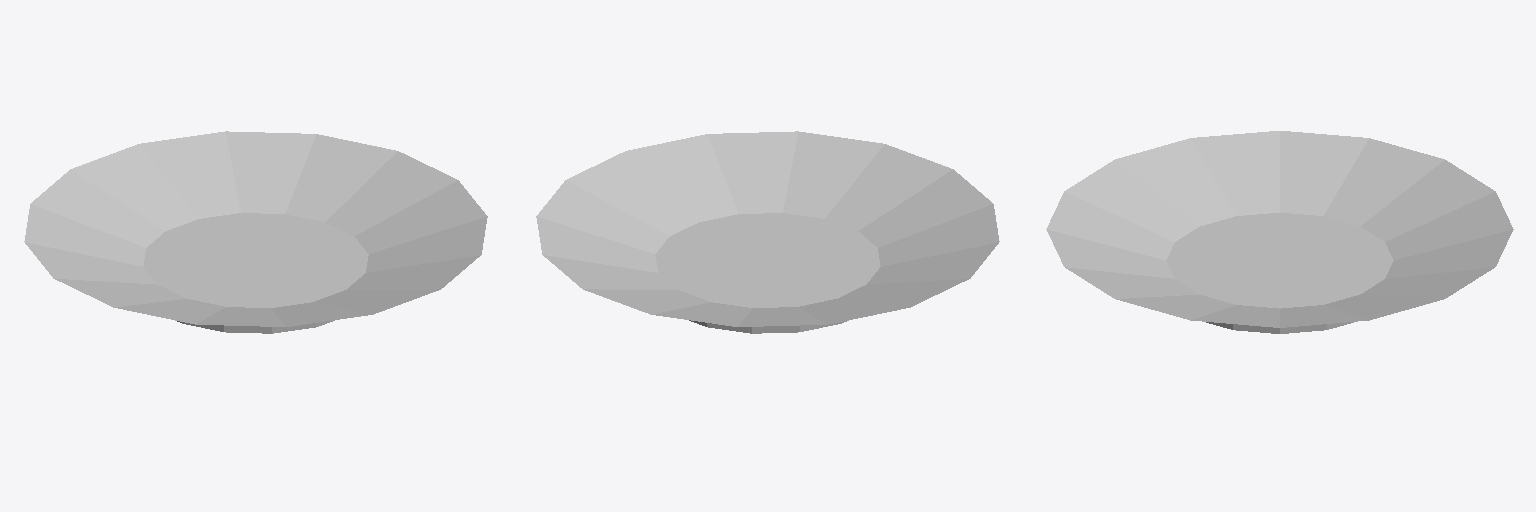
File: Plate.obj
3 renders of one model, left to right at view 1: azimuth 30°, elevation 25°; view 2: azimuth 150°, elevation 25°; view 3: azimuth 270°, elevation 25°, orthographic.
Visible parts, largest first — view 1: Plate; view 2: Plate; view 3: Plate.
Part boxes in pixels (left/top/right/bottom): Plate: left=24, top=131, right=487, bottom=333; Plate: left=536, top=131, right=999, bottom=333; Plate: left=1046, top=131, right=1513, bottom=333.
Bounding box in the file's own units: 0.5748 × 0.0724 × 0.5748.